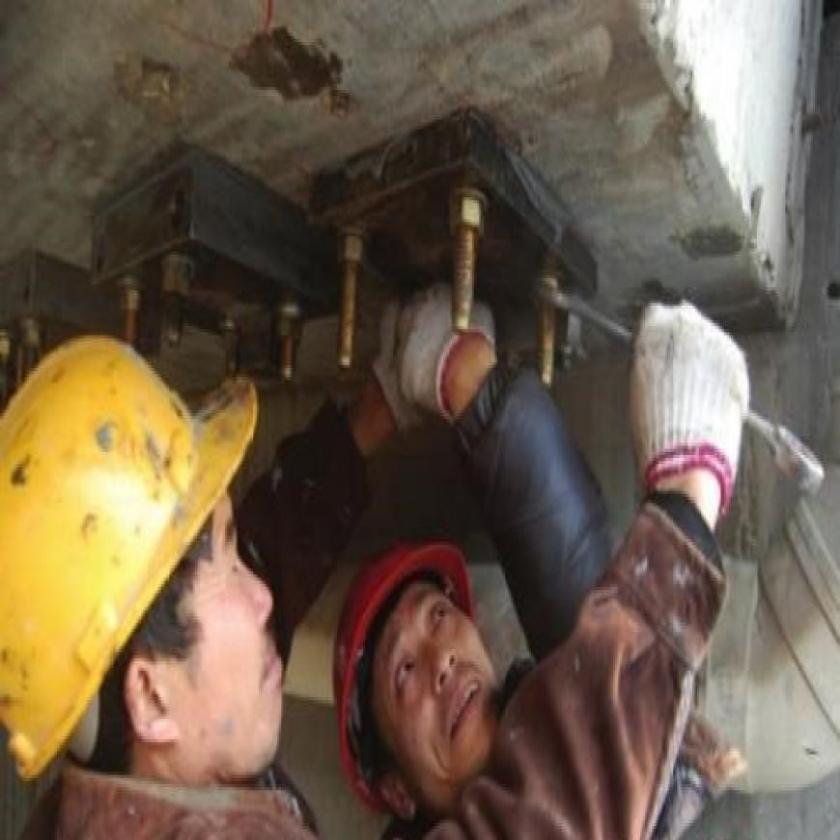Con_casco: (0, 327, 309, 840), (324, 521, 505, 804)
